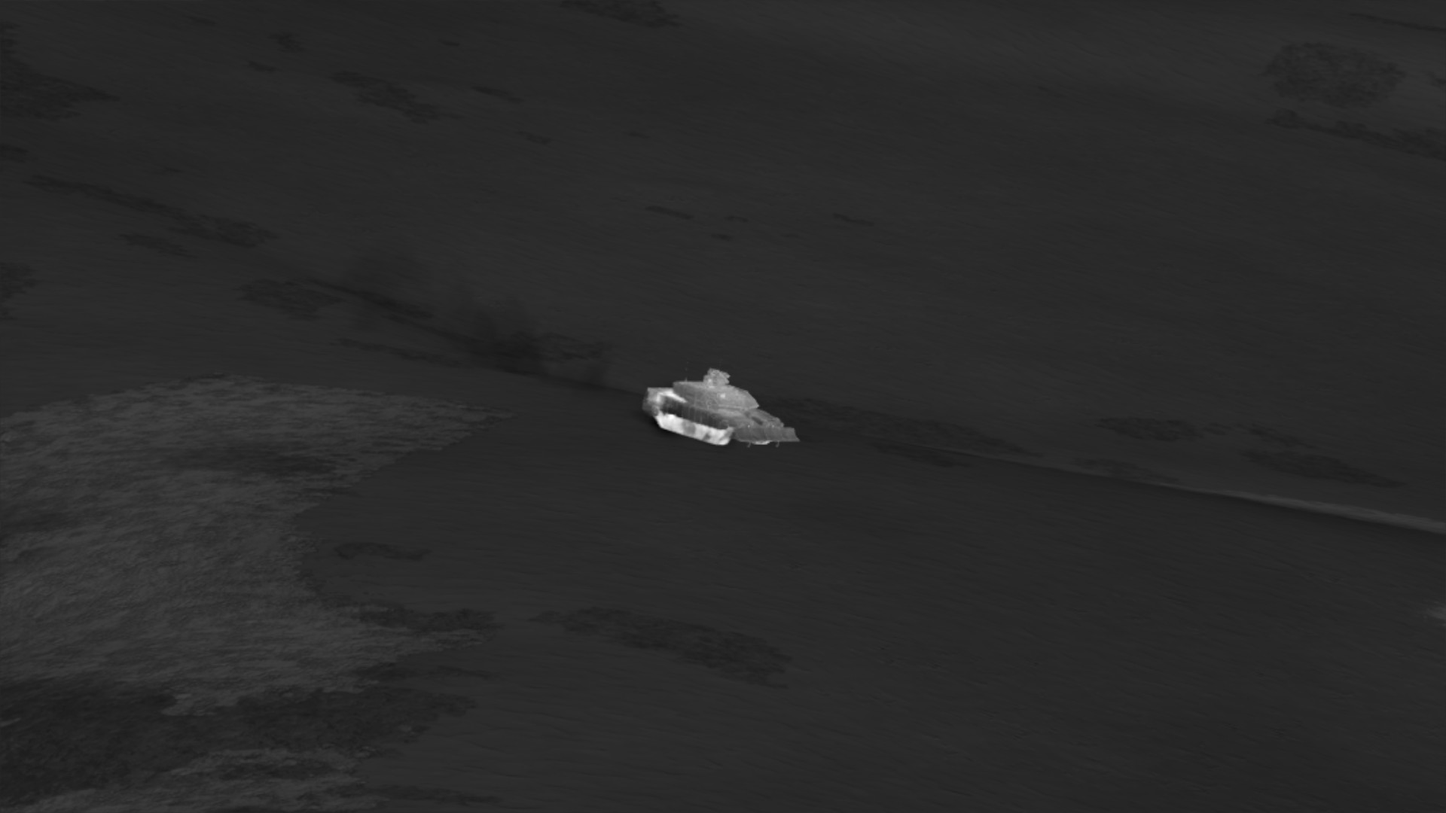leopard2: (644, 368, 801, 454)
